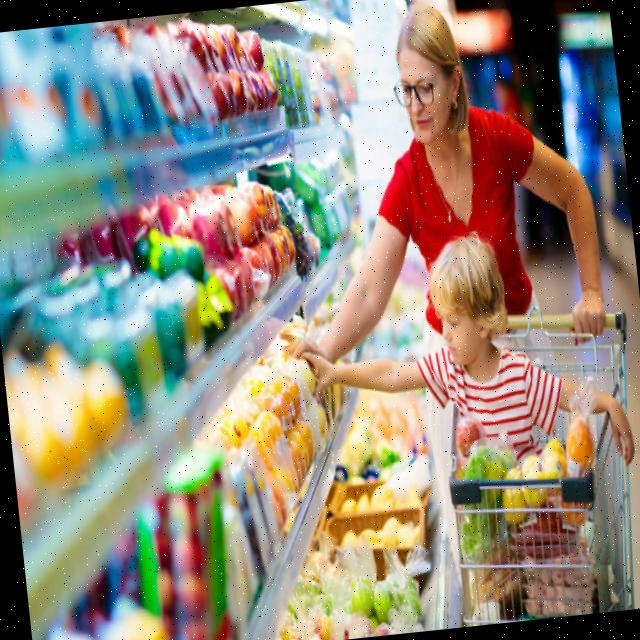Person: (249, 0, 609, 375), (292, 220, 636, 496)
